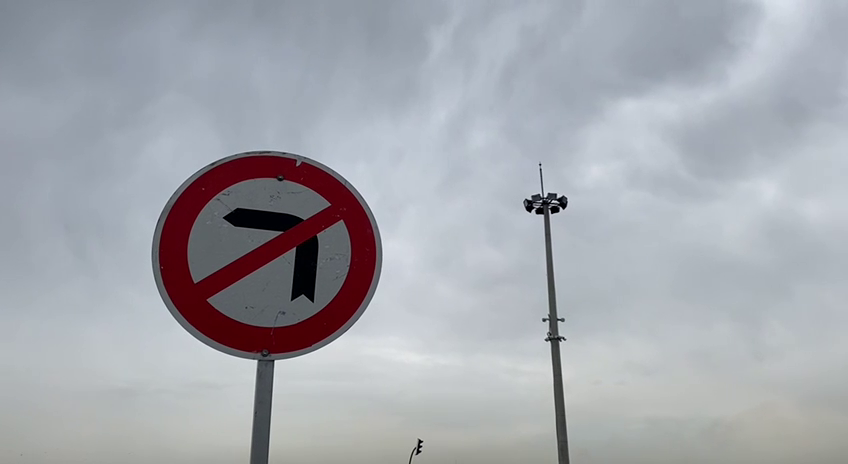noTurnLeft: (146, 143, 387, 366)
